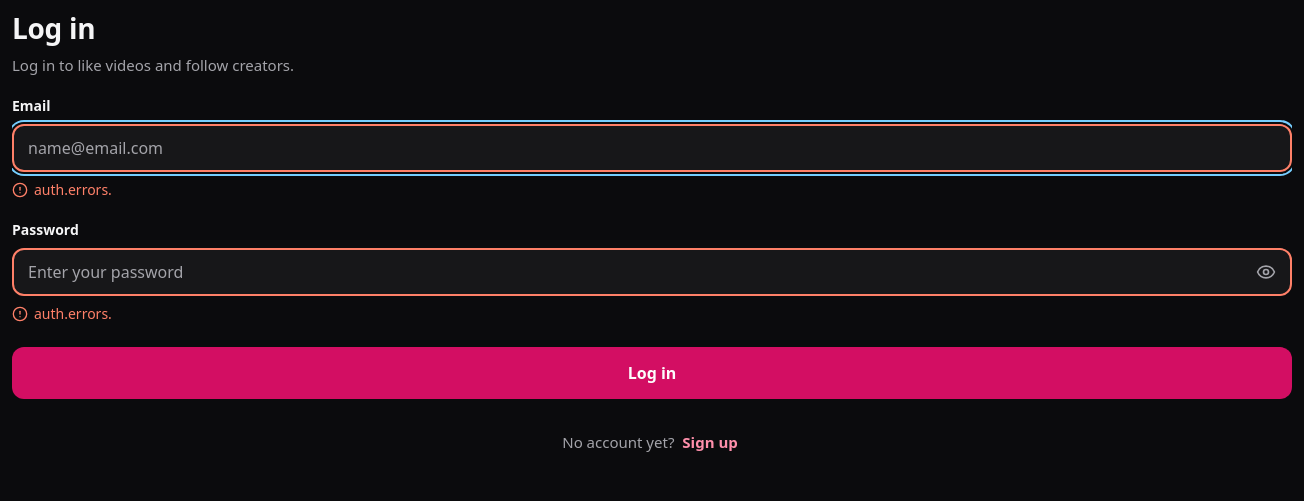
Test: AuthForm › en: INVALID_CREDENTIALS is an alert with a title and a body
Step 1. Type "minhanh@gmail.com" into the field labelled "Email" → (652, 148), box [14,126,1290,170]
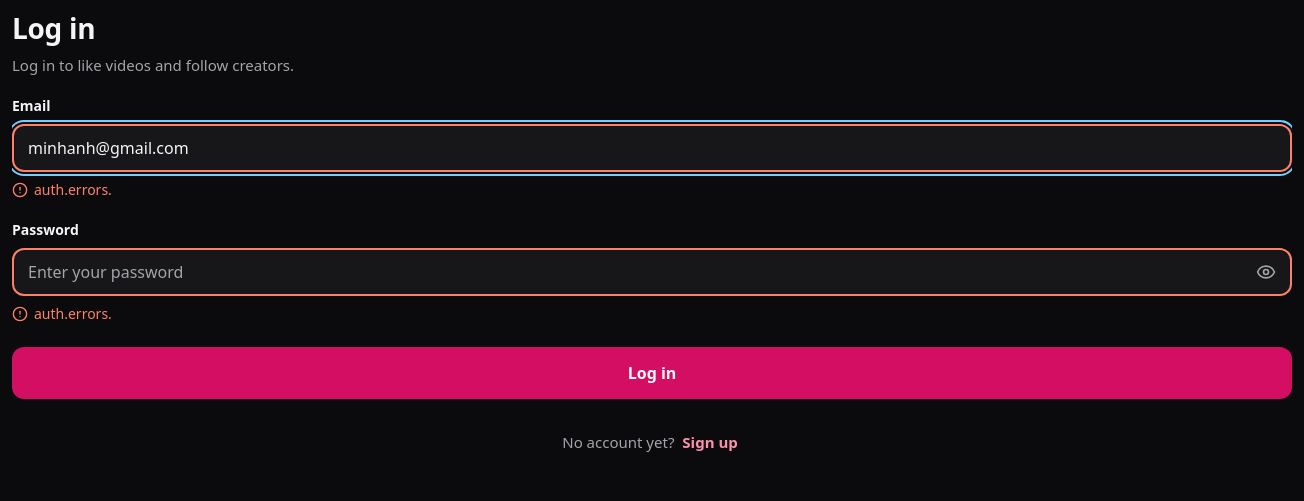
Step 2. Type "12345678" into the password field labelled "Password" → (629, 272), box [14,250,1244,294]
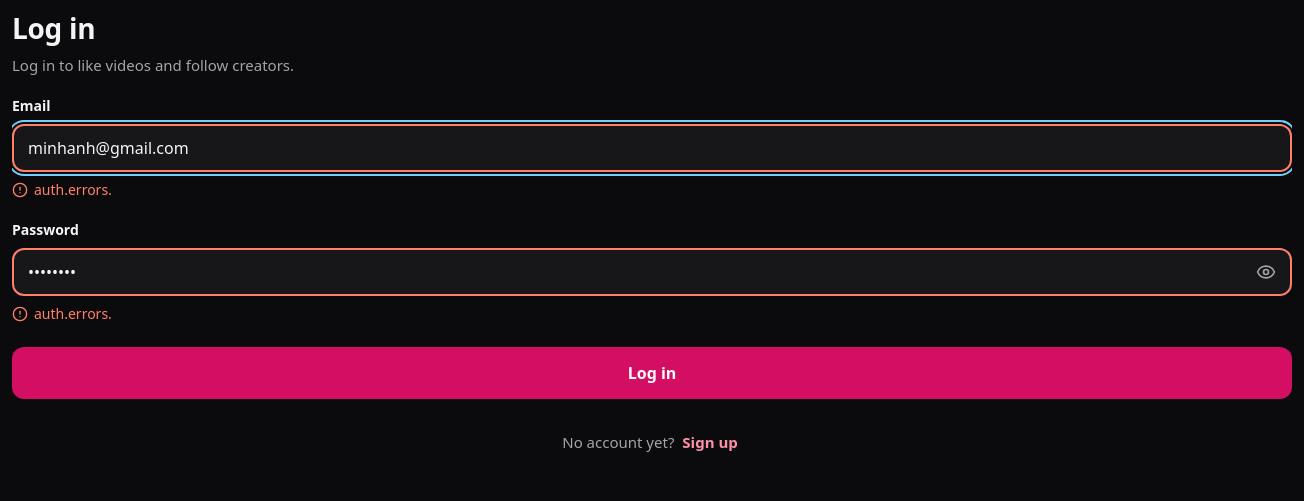
Step 3. Click the button "Log in" → (652, 373), box [12,347,1292,399]
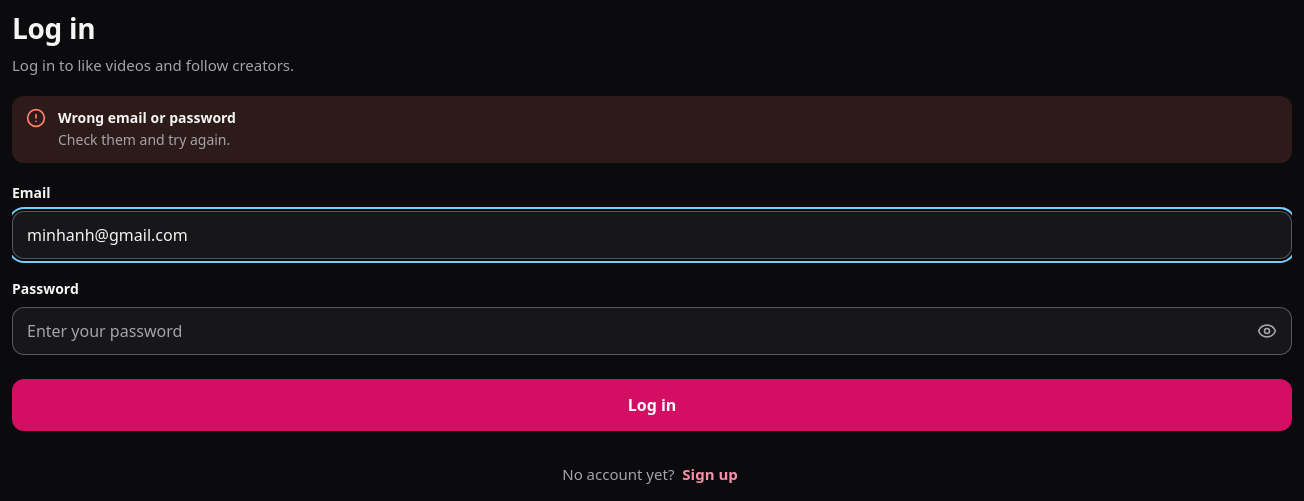
expect the icon next to "Wrong email or password" is shown: met, box [26,108,46,128]
expect the message shows "Wrong email or password": met, box [58,108,236,127]
expect the message shows "Check them and try again.": met, box [58,130,230,149]
